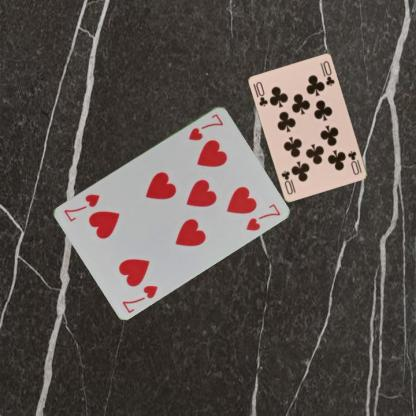10c: (254, 79, 269, 108), (346, 149, 360, 176)
7h: (119, 282, 160, 314), (186, 110, 225, 141)
